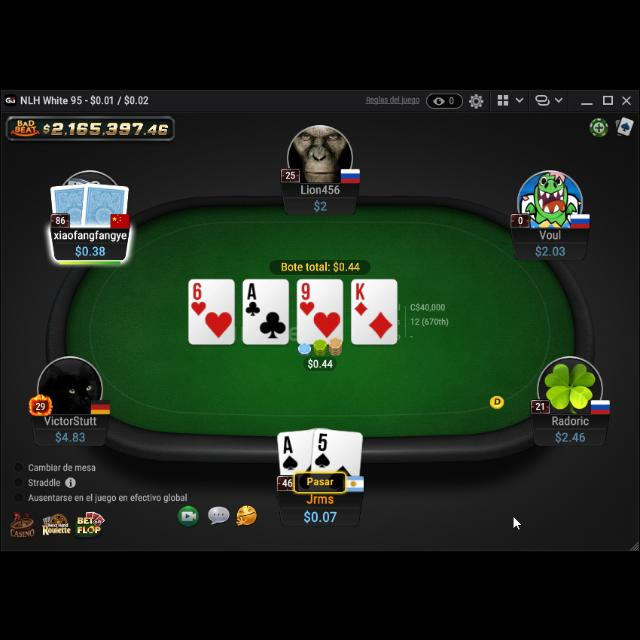5s: (314, 428, 332, 467)
6h: (190, 280, 208, 314)
9h: (298, 279, 316, 315)
Ac: (243, 278, 263, 316)
As: (281, 432, 301, 470)
Kd: (353, 279, 369, 315)
bet_text: (306, 354, 334, 368)
card_back: (80, 178, 130, 228), (49, 178, 93, 226)
dealer: (488, 390, 506, 408)
pot_text: (280, 258, 362, 272)
stack_text: (303, 504, 339, 522), (74, 241, 106, 257), (554, 426, 586, 440), (54, 427, 86, 441), (534, 240, 566, 254), (312, 196, 328, 210)
